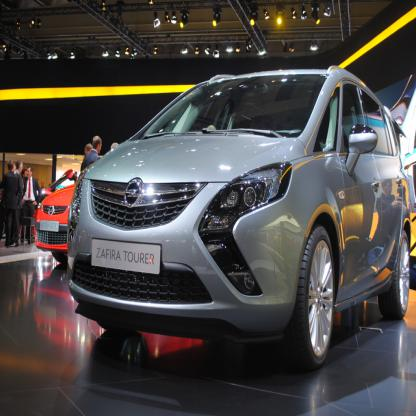Car: (67, 66, 410, 369), (36, 184, 76, 264)
